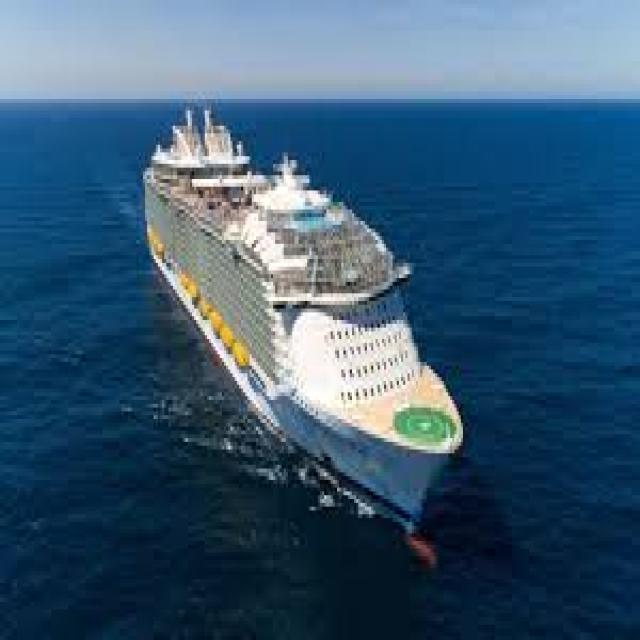passenger ship: (140, 97, 466, 554)
